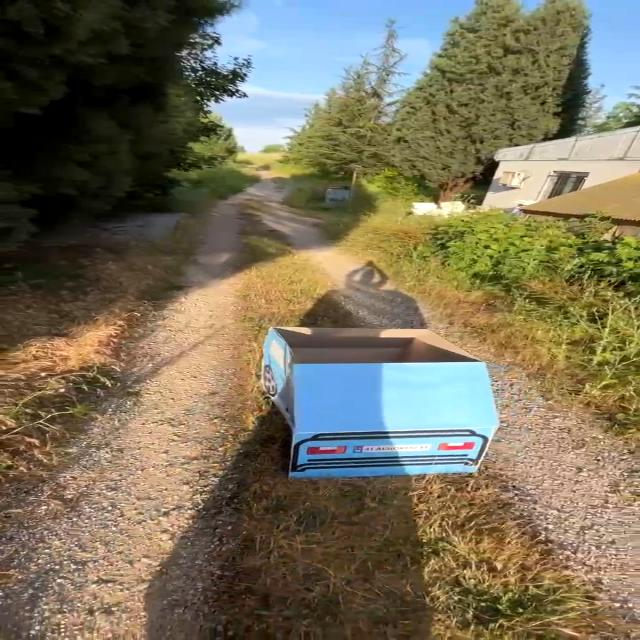blue_car: (212, 304, 519, 482)
